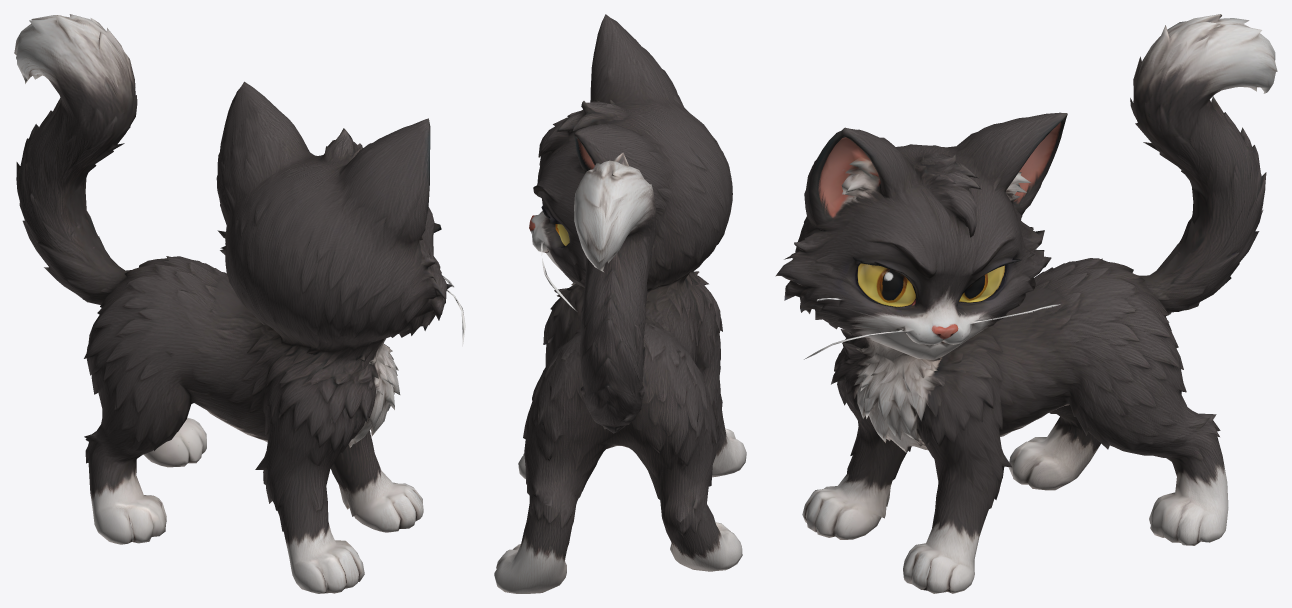
File: greycat.glb
3 renders of one model, left to right at view 1: azimuth 30°, elevation 25°; view 2: azimuth 150°, elevation 25°; view 3: azimuth 270°, elevation 25°, orthographic. The views are drawn at different scales.
Visible parts, largest first — view 1: tripo_node_b1e57ec1-516d-4e3f-9327-45640ade45bd; view 2: tripo_node_b1e57ec1-516d-4e3f-9327-45640ade45bd; view 3: tripo_node_b1e57ec1-516d-4e3f-9327-45640ade45bd.
Part boxes in pixels (box(x1,y1,x2,y2)): tripo_node_b1e57ec1-516d-4e3f-9327-45640ade45bd: box(14, 14, 465, 593); tripo_node_b1e57ec1-516d-4e3f-9327-45640ade45bd: box(494, 14, 746, 593); tripo_node_b1e57ec1-516d-4e3f-9327-45640ade45bd: box(775, 14, 1277, 593).
Bounding box in the file's own units: 0.5842 × 0.9468 × 0.9152.
Materials: 1 (1 with a texture image).
